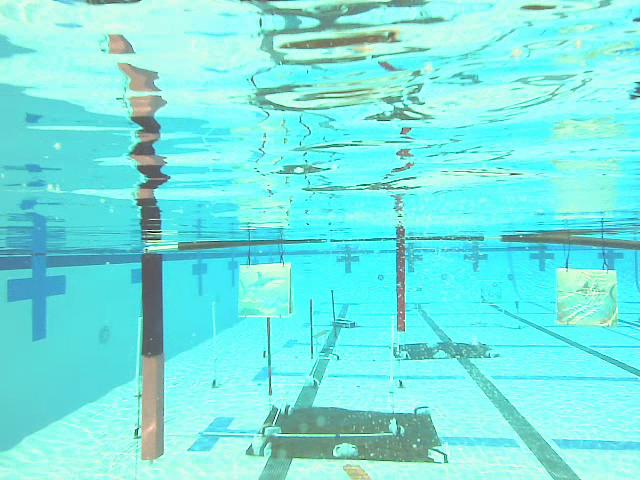black_poster: (310, 300, 315, 358), (332, 290, 337, 337)
divider: (396, 239, 407, 331)
left_gate_poster: (141, 253, 163, 459)
shark: (239, 264, 294, 316)
swordfish: (559, 269, 617, 329)
white_poster: (133, 318, 142, 437), (210, 302, 218, 387)
